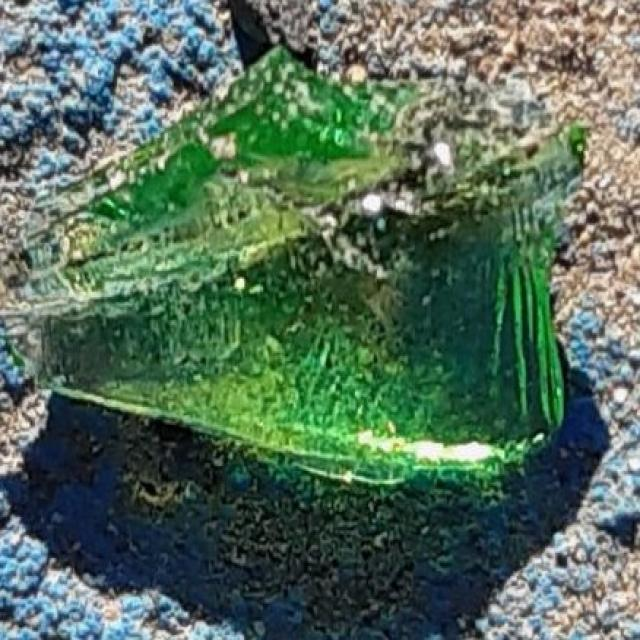Dry: (73, 73, 565, 481)
